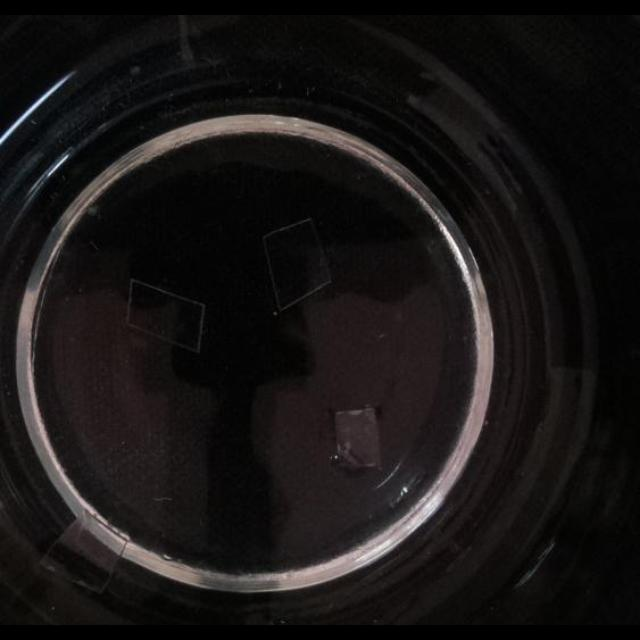Film: (42, 509, 128, 595), (260, 218, 332, 312), (125, 280, 207, 354), (332, 406, 384, 470)
